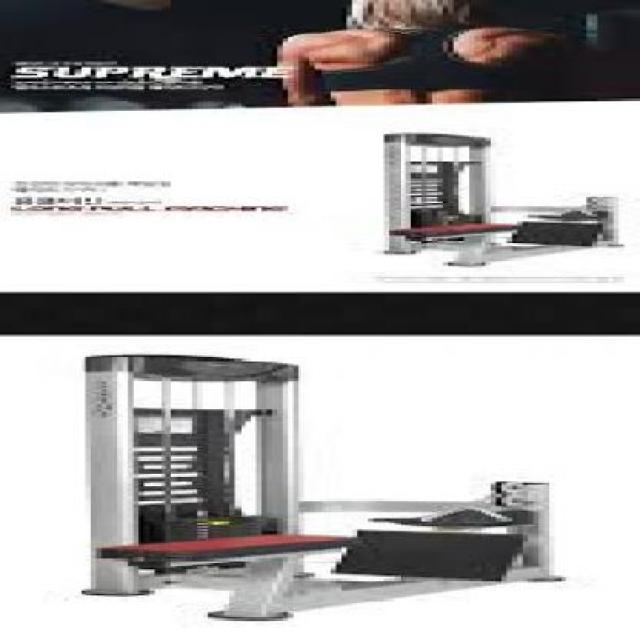Seated Cable Rows: (26, 346, 591, 623), (320, 123, 640, 272)
